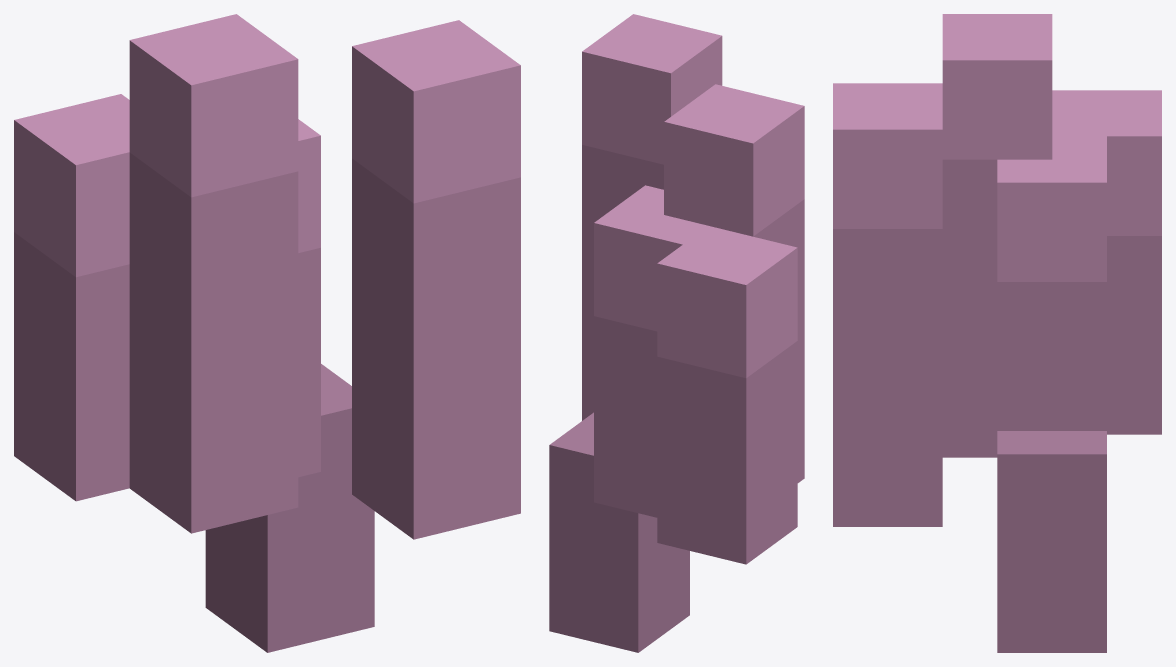
Rendered from coral_blando_04.glb.
3 views of the same model, side by side, from view 1: azimuth 30°, elevation 25°; view 2: azimuth 150°, elevation 25°; view 3: azimuth 270°, elevation 25° (orthographic). The views are drawn at different scales.
Parts seen in each view (by area): view 1: coral_blando_04; view 2: coral_blando_04; view 3: coral_blando_04.
Part boxes in pixels (box(x1,y1,x2,y2)): coral_blando_04: box(14, 14, 520, 652); coral_blando_04: box(549, 14, 804, 652); coral_blando_04: box(833, 14, 1161, 652).
Size of the model in its own units: 0.6 by 1.1 by 0.6.
